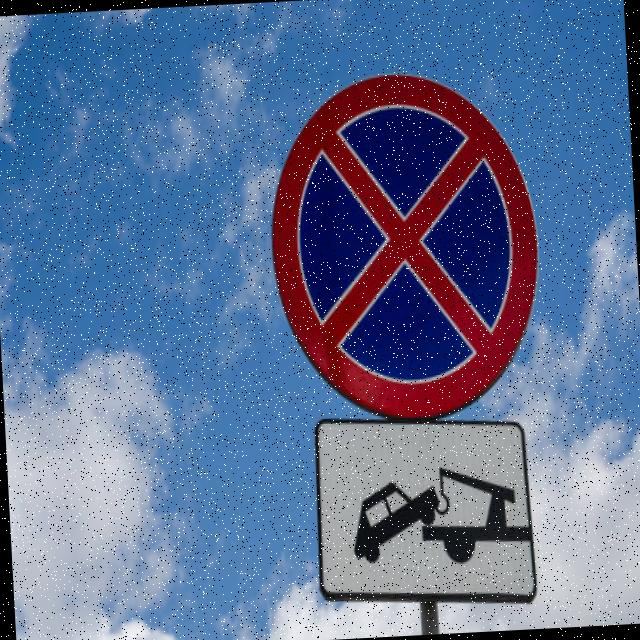no_parking: (252, 53, 552, 429)
